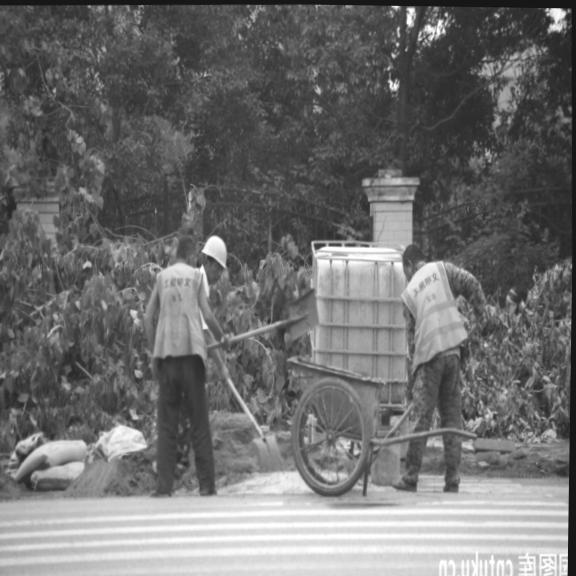safety_vest: (401, 265, 470, 372), (149, 262, 208, 364)
